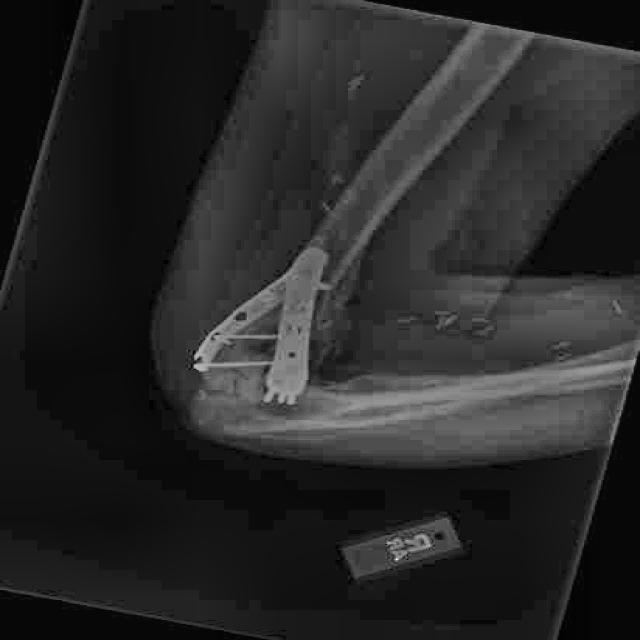elbow positive: (169, 368, 273, 428)
